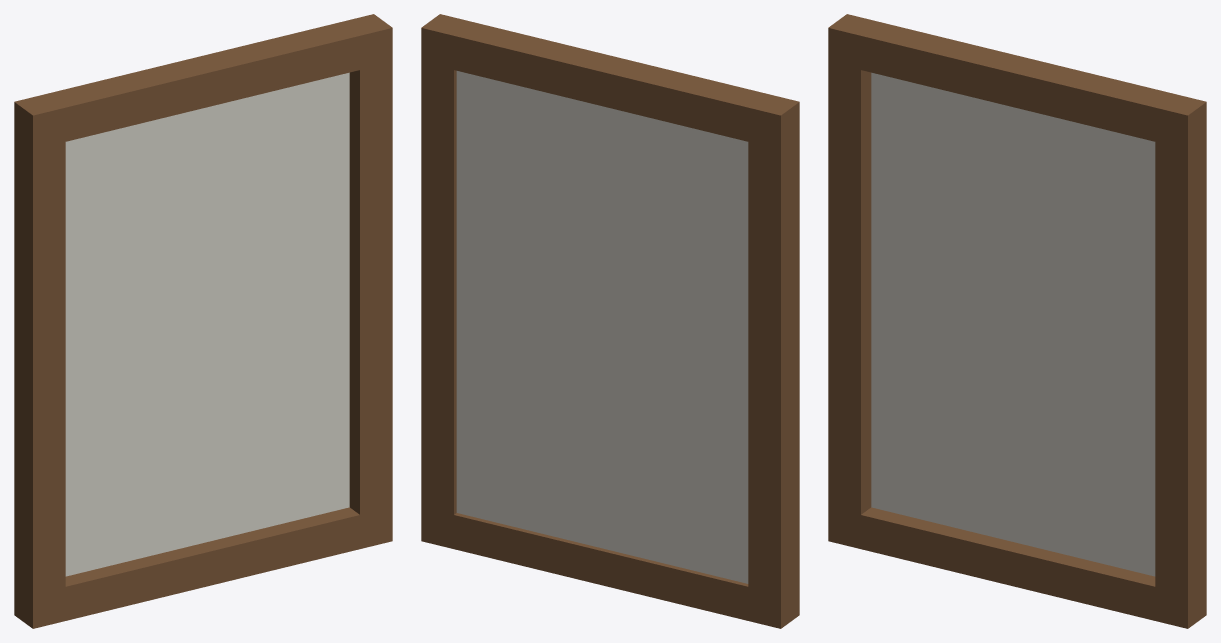
File: PRP_P0_Picture_Frame_A.obj
The picture shows the model from 3 angles, left to right: view 1: azimuth 30°, elevation 25°; view 2: azimuth 150°, elevation 25°; view 3: azimuth 330°, elevation 25°; orthographic projection.
Visible parts, largest first — view 1: print, frame_l, frame_r, frame_t, frame_b; view 2: print, frame_l, frame_r, frame_t, frame_b; view 3: print, frame_r, frame_l, frame_t, frame_b.
Part boxes in pixels (left/top/right/bottom): print: left=65, top=72, right=349, bottom=576; frame_l: left=14, top=94, right=65, bottom=628; frame_r: left=341, top=14, right=392, bottom=548; frame_t: left=47, top=22, right=359, bottom=141; frame_b: left=65, top=507, right=359, bottom=620; print: left=456, top=71, right=748, bottom=583; frame_l: left=748, top=94, right=799, bottom=628; frame_r: left=421, top=14, right=472, bottom=548; frame_t: left=454, top=22, right=766, bottom=141; frame_b: left=454, top=513, right=748, bottom=620; print: left=871, top=72, right=1155, bottom=576; frame_r: left=1155, top=94, right=1206, bottom=628; frame_l: left=828, top=14, right=879, bottom=548; frame_t: left=861, top=22, right=1173, bottom=141; frame_b: left=861, top=507, right=1155, bottom=620.
Size of the model in its own units: 0.22 by 0.3 by 0.02.
